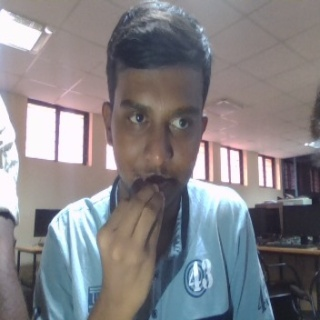Food: (94, 179, 170, 315)
